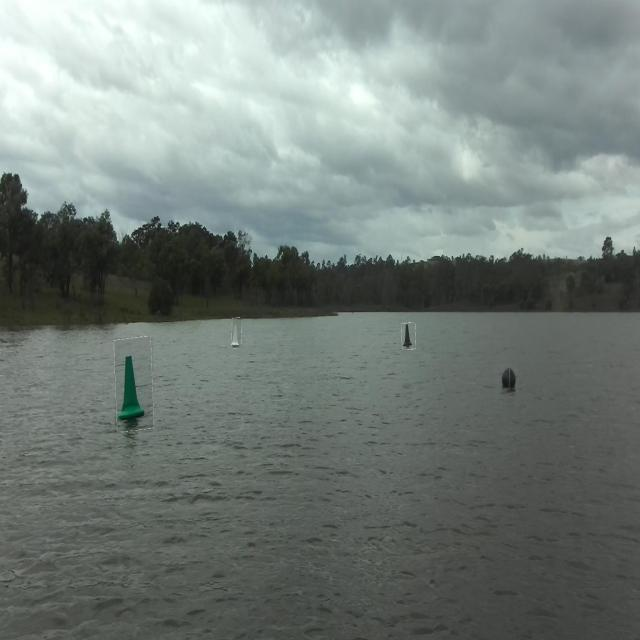Black_Buoy: (498, 359, 525, 398), (398, 320, 419, 356)
Green_Buoy: (113, 331, 154, 441)
White_Buoy: (230, 315, 246, 354)
